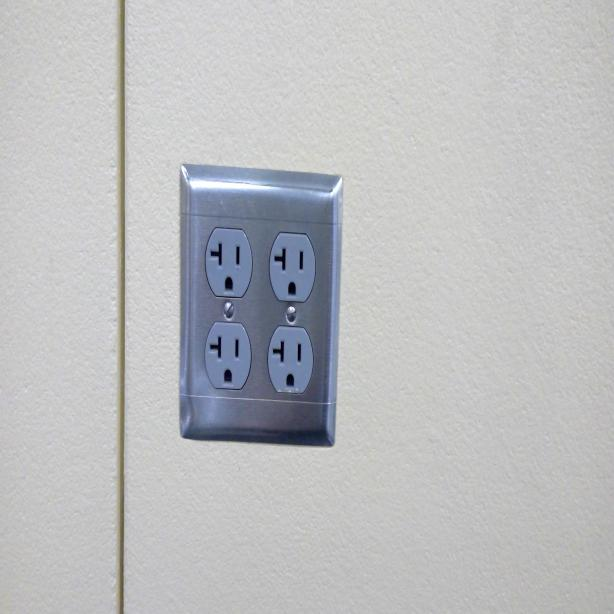typeb: (200, 227, 252, 298), (267, 228, 317, 301), (205, 318, 250, 392), (267, 330, 312, 397)
